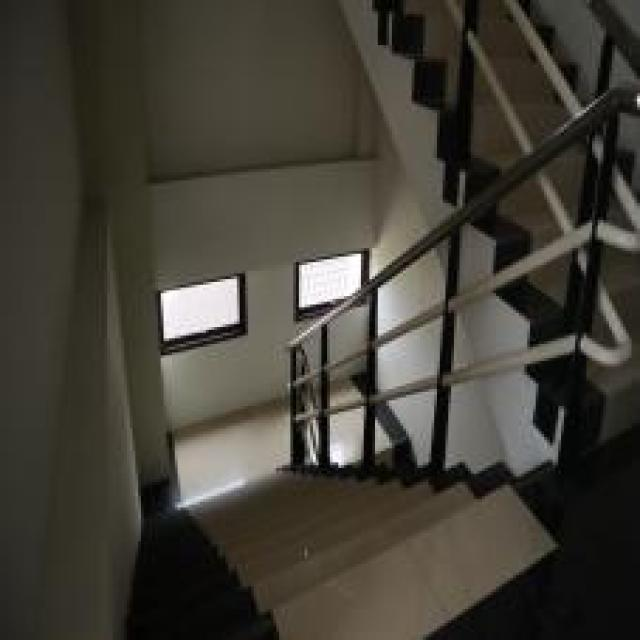downstair: (131, 480, 619, 638)
